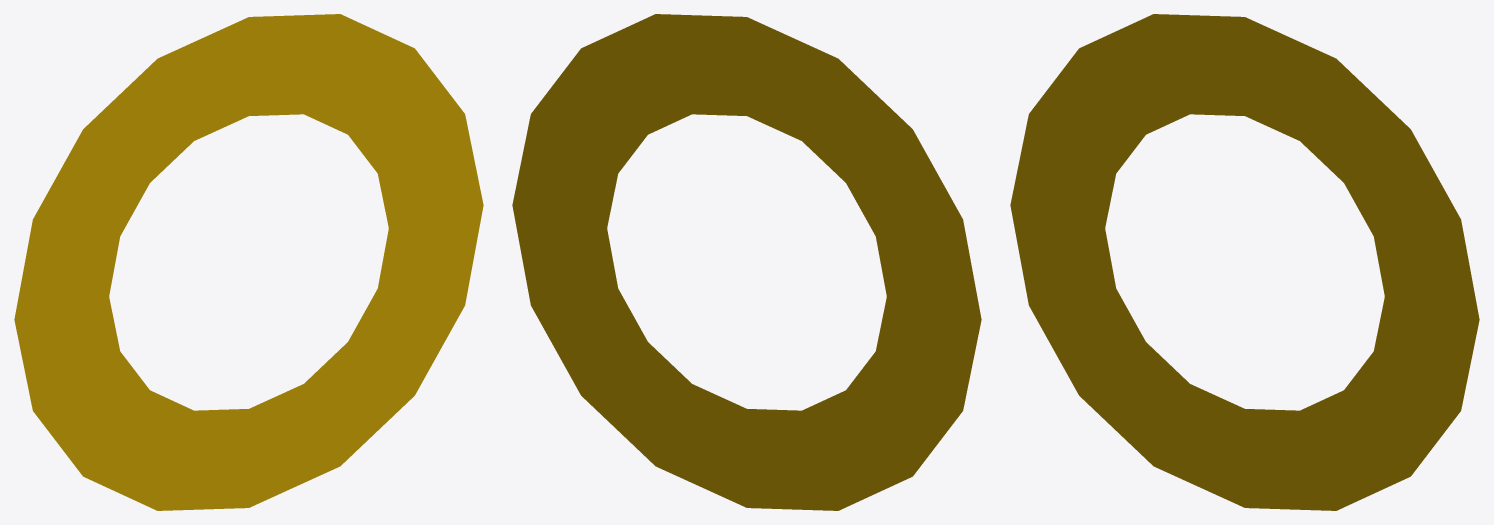
The model's file is ContourJaune.fbx.
3 renders of one model, left to right at view 1: azimuth 30°, elevation 25°; view 2: azimuth 150°, elevation 25°; view 3: azimuth 330°, elevation 25°, orthographic.
Parts seen in each view (by area): view 1: Object002; view 2: Object002; view 3: Object002.
Boxes of the visible parts, x1,y1,x2,y2 form: Object002: [14, 14, 483, 510]; Object002: [512, 14, 981, 510]; Object002: [1010, 14, 1479, 510].
Size of the model in its own units: 156 by 156 by 2.54e-05.
